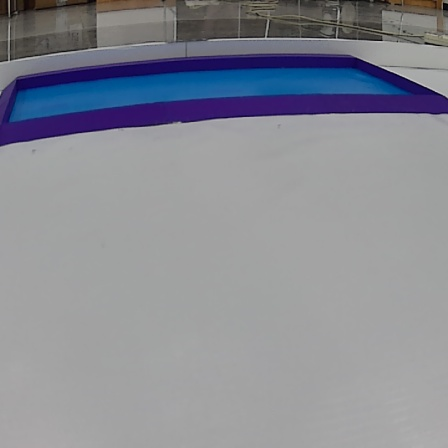blue_aim: (4, 55, 448, 151)
